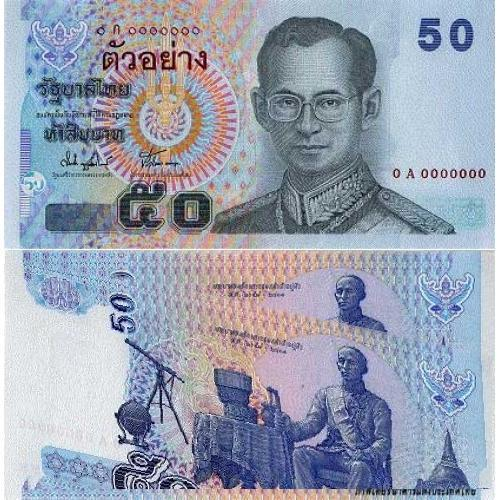50BahtTai: (16, 253, 492, 489)
